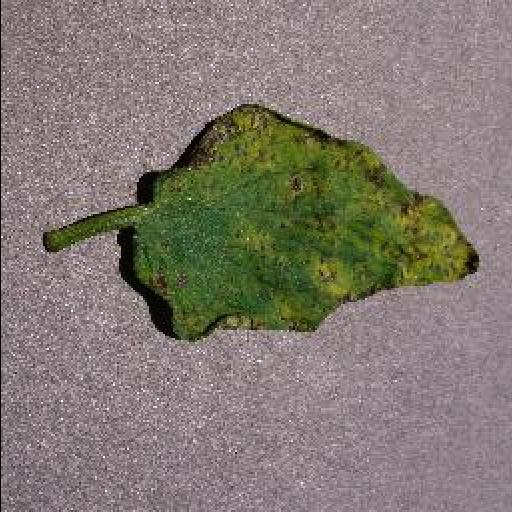disease_tomato: (124, 108, 478, 344)
